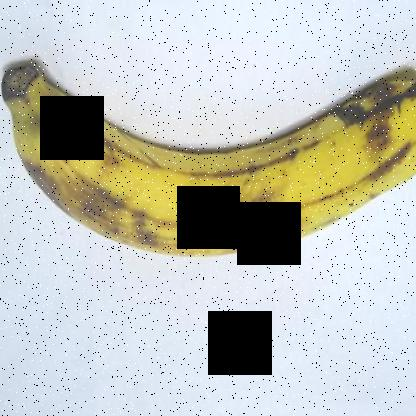overripe: (0, 31, 415, 273)
